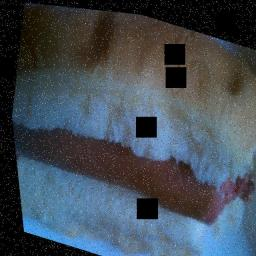hotdog: (9, 109, 255, 234)
